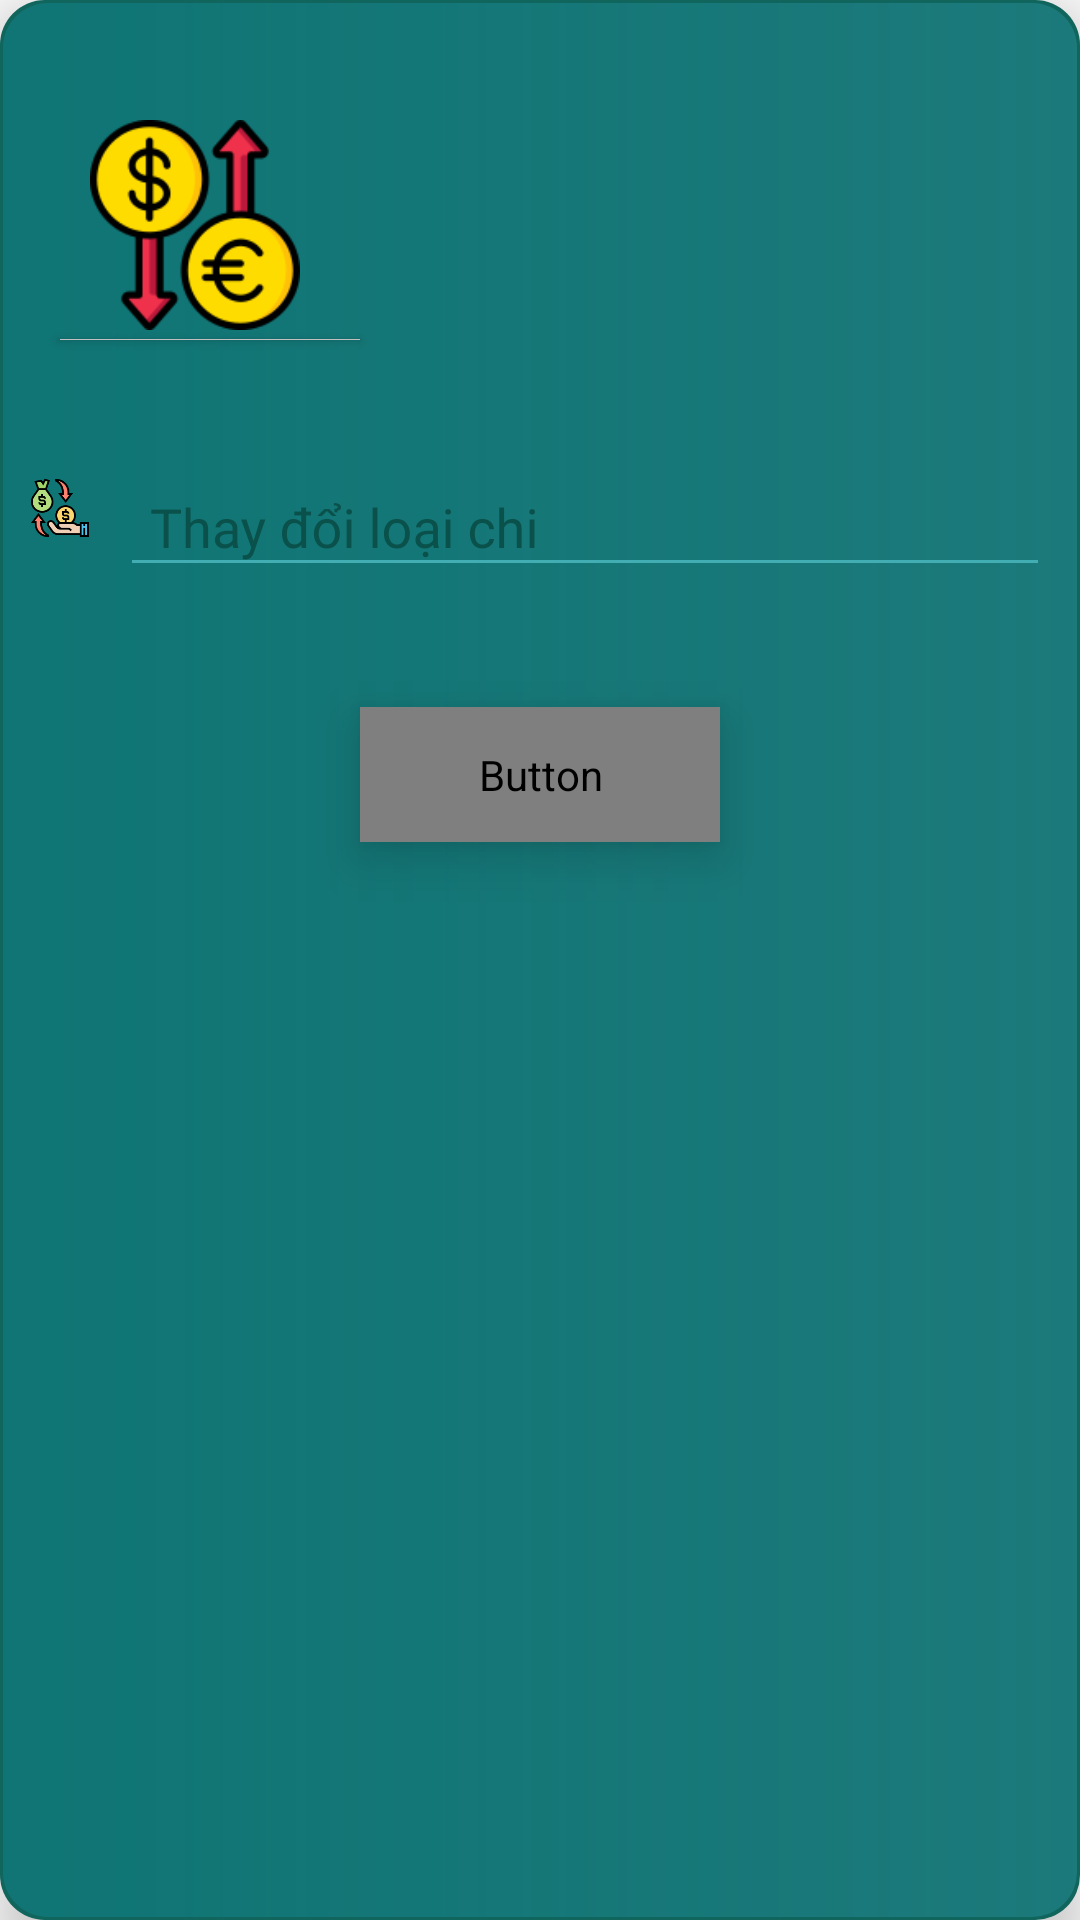

Locate icon controls on the screen. Image size 1080 × 1920, boxes as bbox=[x1, y1, x2, y2].
change: bbox=[90, 120, 300, 330], bbox=[31, 479, 89, 537]
